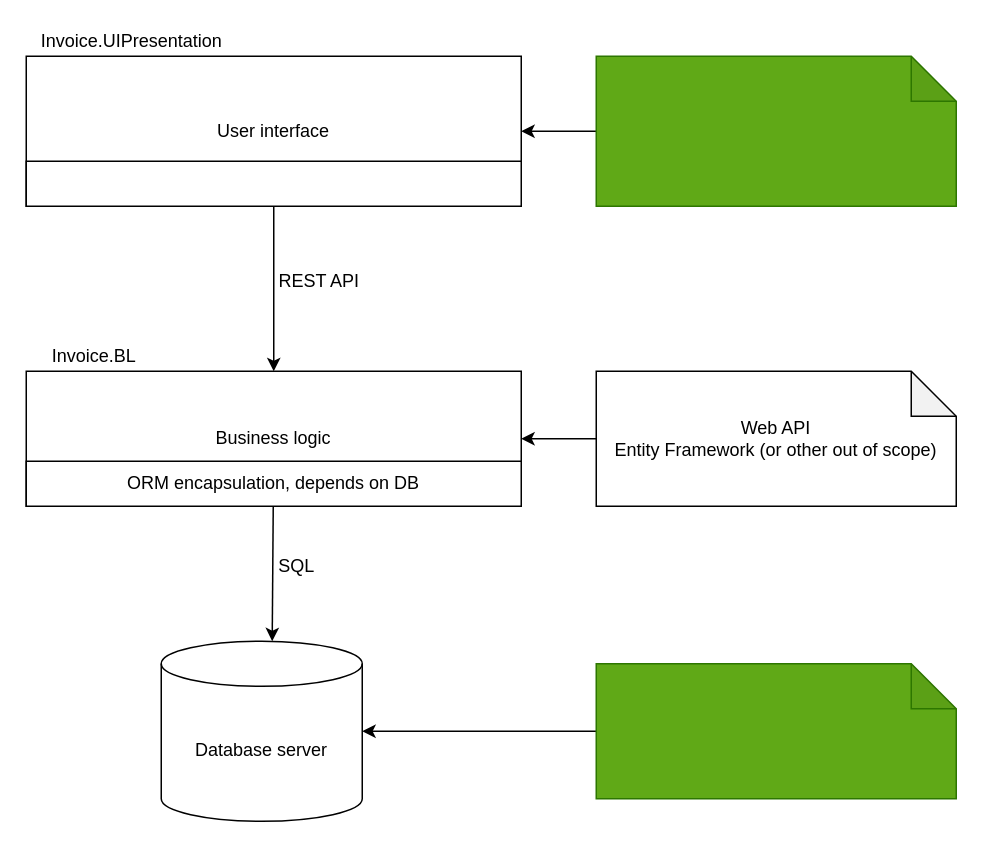
Some shapes in this 983 by 848 pixel diagram are drawn without their labels. The shapes that lost their labels are listed below. From the top down, each one's centre as x and y in pixels, then its label:
At point (775, 130): "User interface independent (Rich client / Web client / Services client, ...)".
At point (273, 183): "REST API encapsulation".
At point (775, 730): "Database independent (out of scope) (MS SQL, Oracle, MySQL, ...)".
